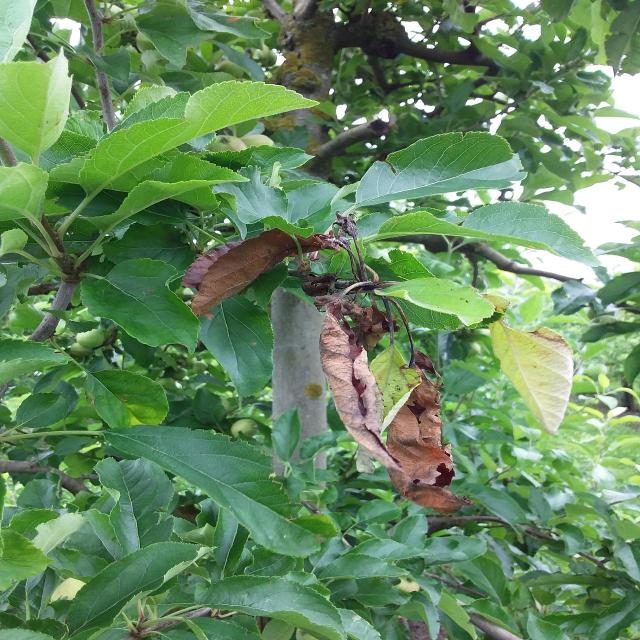-FireBlight-: (172, 202, 477, 525)
